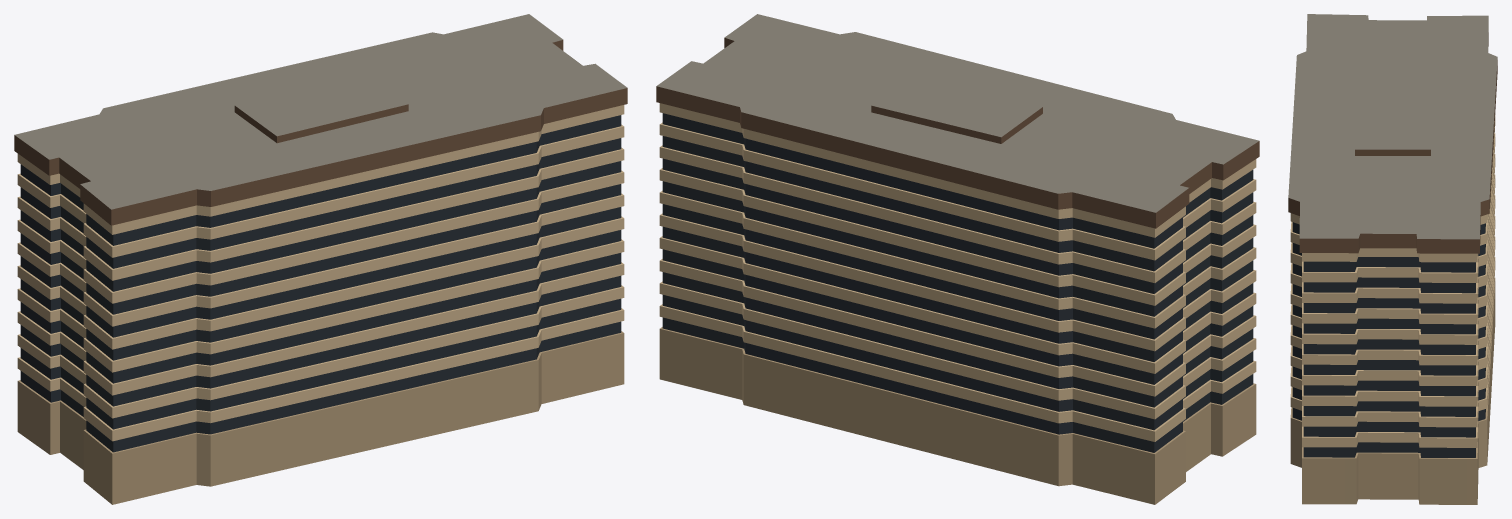
File: hotel_building_w278979_w27897904.glb
3 renders of one model, left to right at view 1: azimuth 30°, elevation 25°; view 2: azimuth 150°, elevation 25°; view 3: azimuth 270°, elevation 25°, orthographic. The views are drawn at different scales.
Visible parts, largest first — view 1: HotelSlab; view 2: HotelSlab; view 3: HotelSlab.
Part boxes in pixels (x1,y1,x2,y2): HotelSlab: (14,14,627,504); HotelSlab: (656,14,1259,504); HotelSlab: (1288,14,1497,504).
Size of the model in its own units: 70.32 by 39.7 by 27.61.
